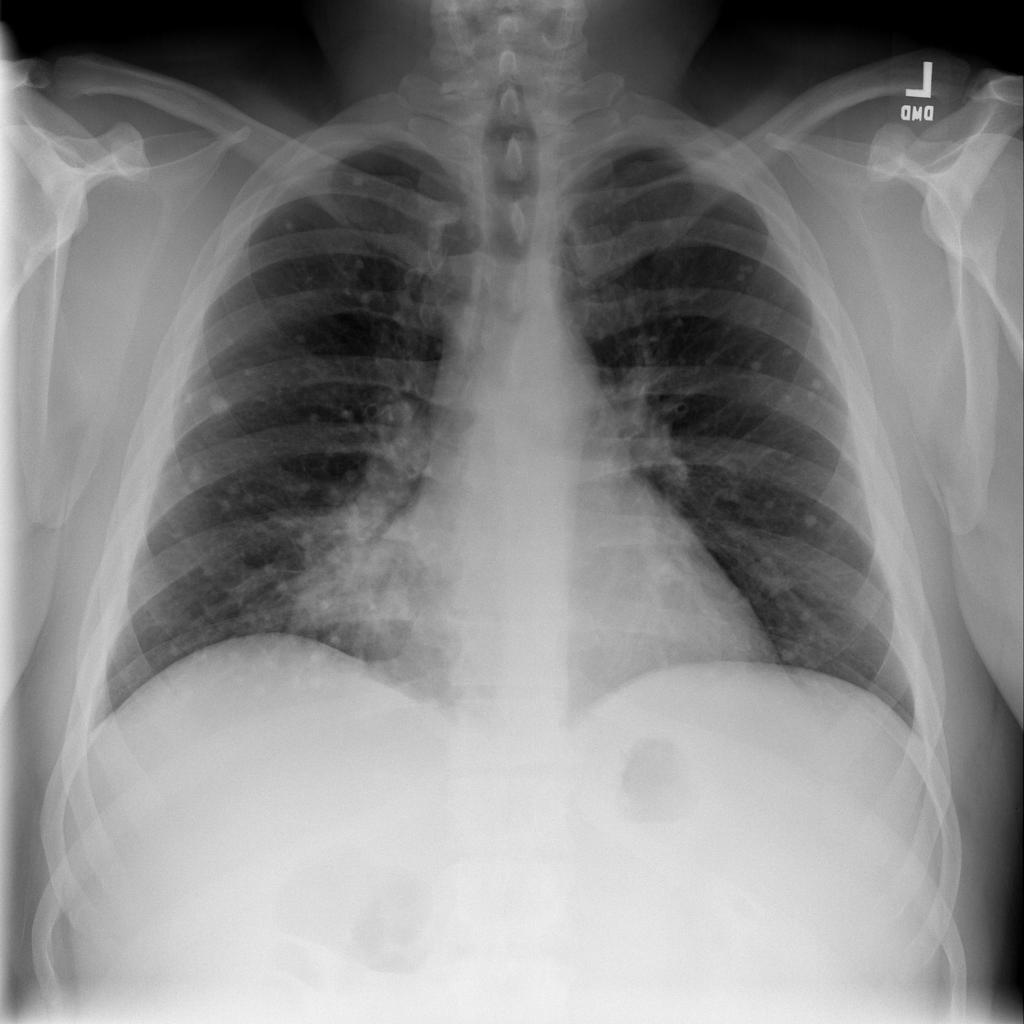nodule: (789, 362, 838, 417), (171, 444, 222, 495), (719, 242, 767, 293), (732, 335, 780, 386), (194, 380, 247, 426), (796, 502, 827, 532), (341, 169, 371, 196), (278, 212, 303, 234)
